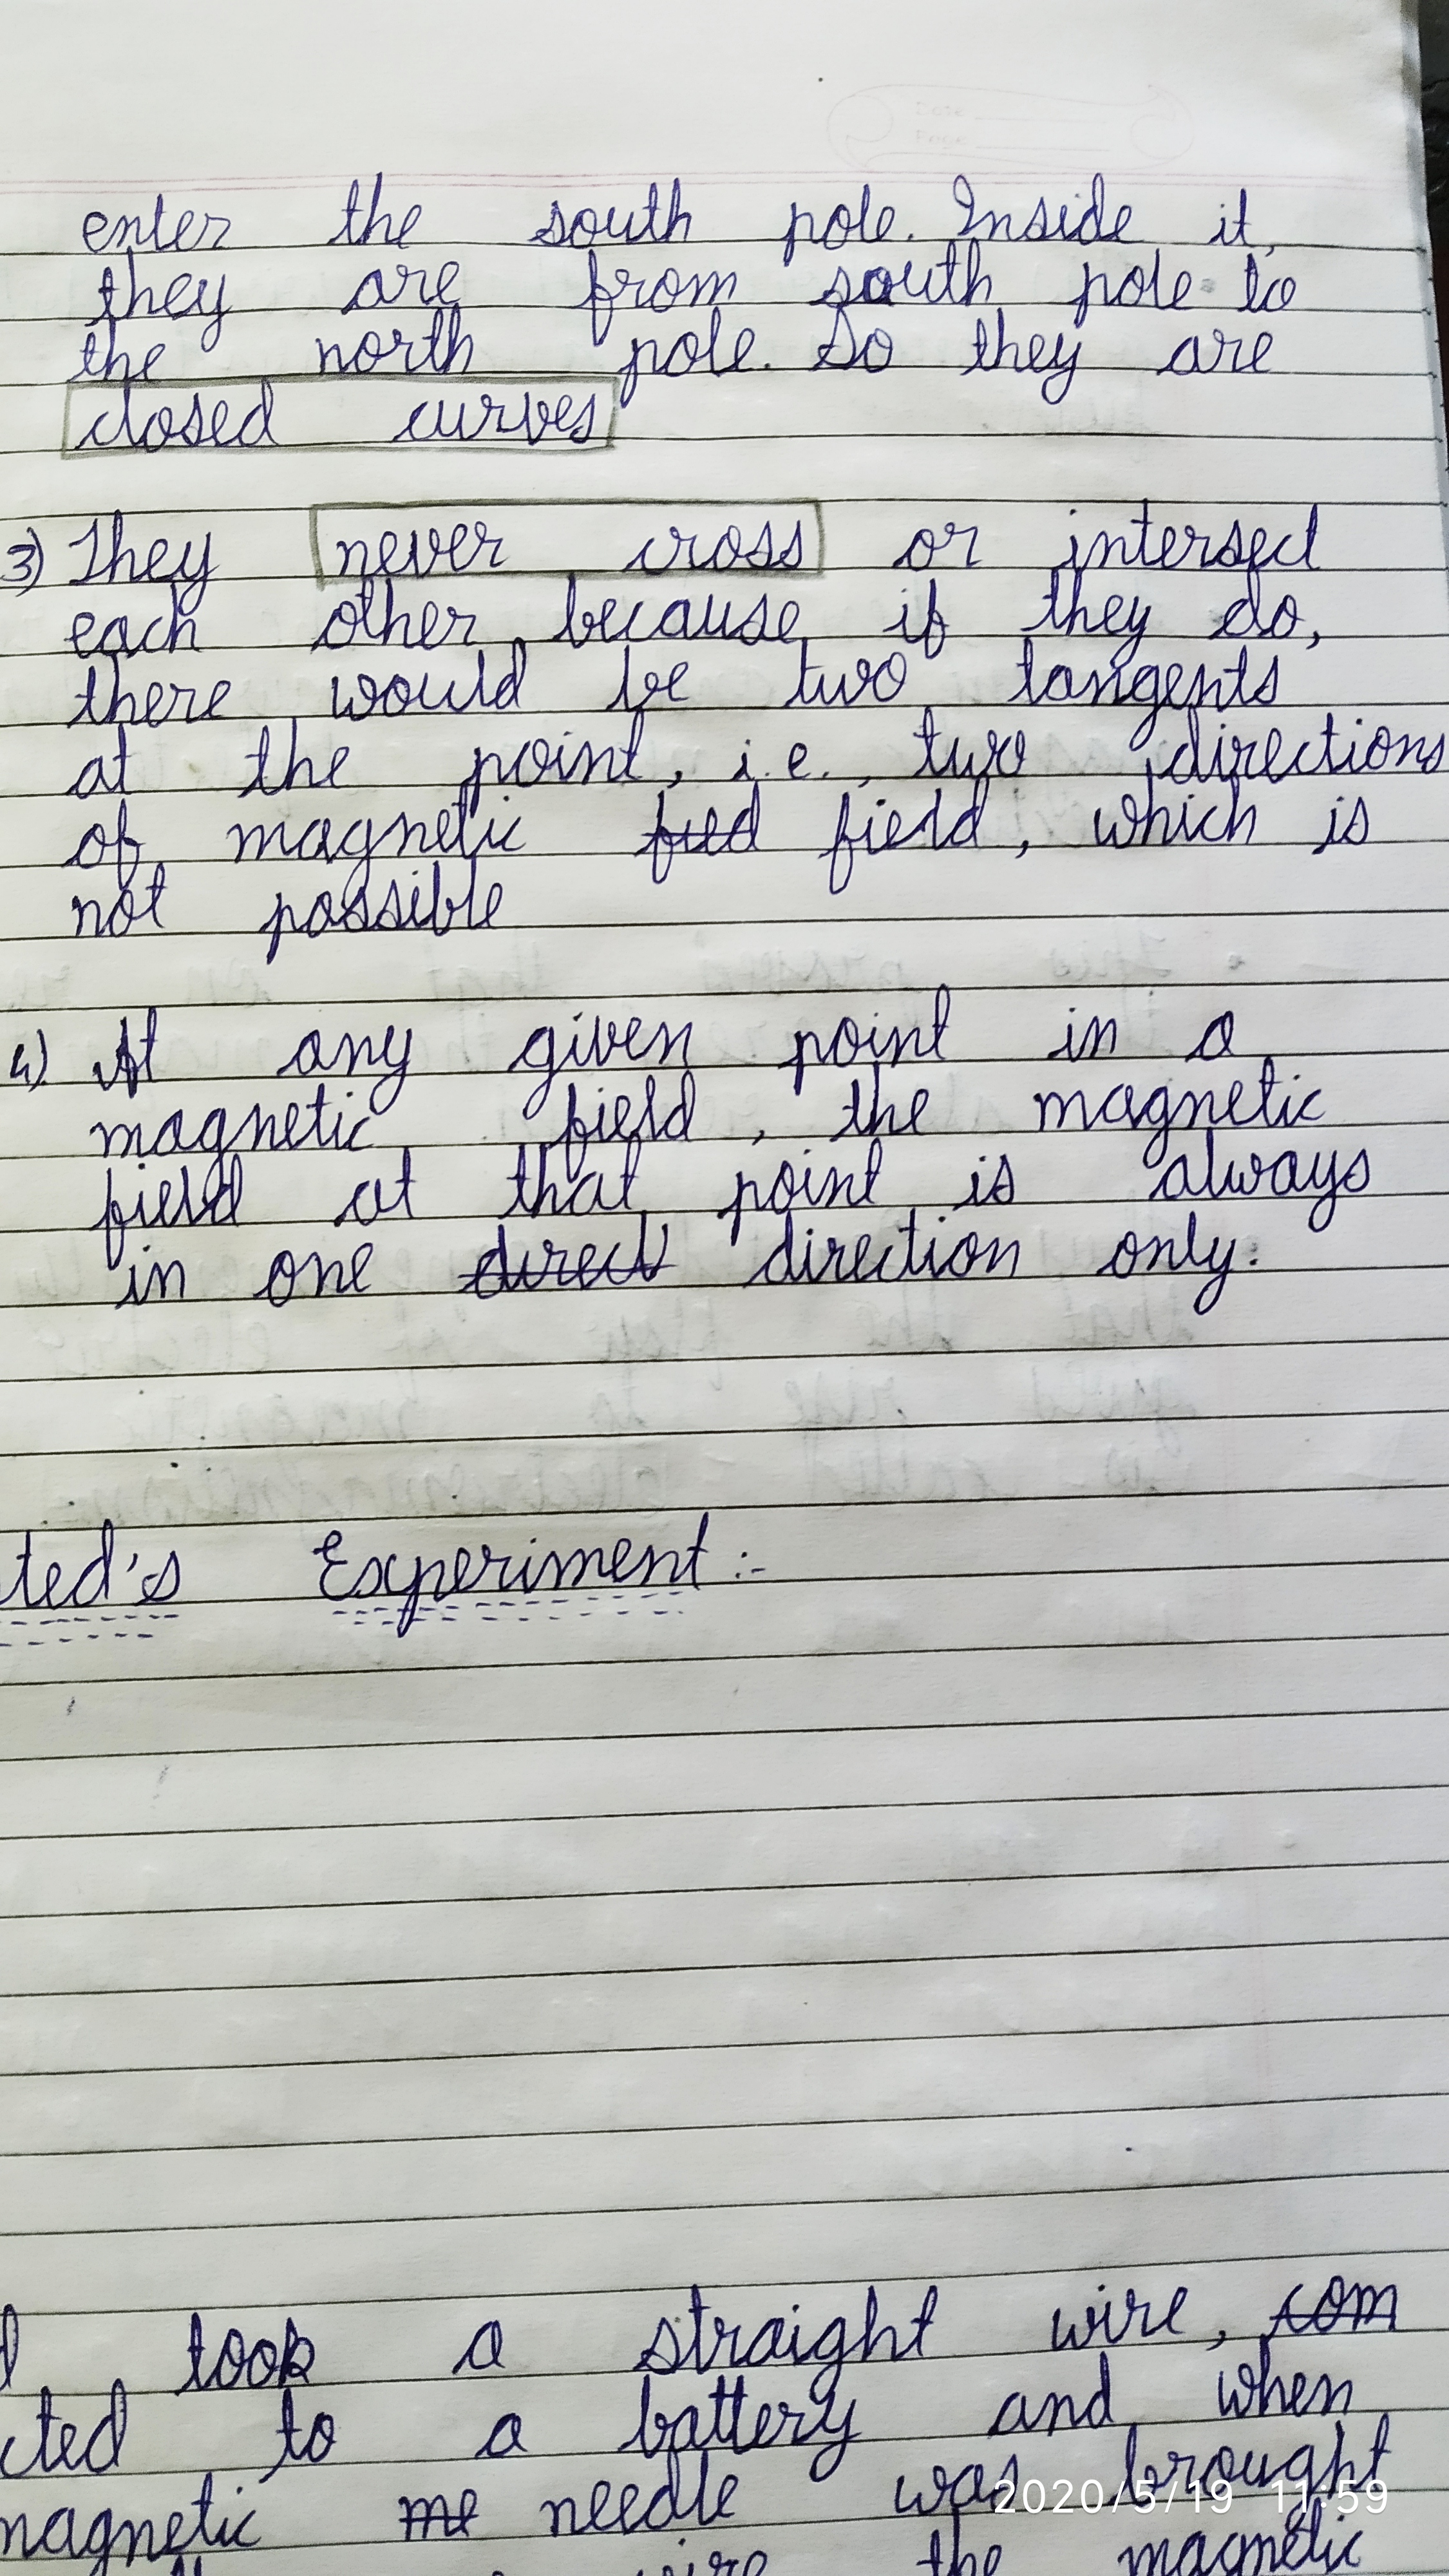A: (108, 1016, 140, 1095)
E: (315, 1529, 354, 1601)
I: (950, 173, 980, 237)
S: (817, 306, 860, 370)
T: (65, 518, 103, 586)
a: (464, 2319, 508, 2373), (35, 2503, 78, 2558), (741, 2316, 787, 2365), (1196, 1008, 1237, 1062), (483, 2410, 525, 2459), (292, 817, 334, 863), (147, 1108, 186, 1157), (948, 2461, 987, 2511), (566, 1171, 607, 1217), (349, 1177, 386, 1226), (651, 598, 694, 640), (1095, 1081, 1136, 1125), (292, 1024, 326, 1076), (1265, 1148, 1300, 1196), (667, 2404, 702, 2452), (350, 267, 389, 310), (1166, 334, 1205, 377), (1039, 662, 1077, 704), (96, 614, 133, 658), (993, 2388, 1030, 2433), (1157, 1154, 1192, 1200), (73, 755, 108, 800)
b: (635, 2374, 671, 2457), (563, 571, 596, 651), (428, 860, 458, 938)
c: (619, 600, 653, 642), (230, 2509, 265, 2548), (637, 536, 669, 573), (136, 614, 166, 653), (345, 1115, 375, 1154), (405, 400, 433, 441), (1286, 740, 1318, 775), (499, 814, 527, 853), (1196, 803, 1224, 842), (874, 1244, 901, 1283), (88, 410, 117, 446), (1270, 533, 1299, 568), (1297, 1088, 1325, 1122)
d: (80, 2378, 131, 2475), (69, 1522, 117, 1608), (639, 2450, 686, 2530), (1221, 566, 1265, 637), (948, 775, 989, 847), (1168, 706, 1205, 784), (658, 1070, 699, 1141), (490, 639, 529, 711), (234, 379, 274, 448), (1083, 2351, 1118, 2429), (763, 1212, 800, 1284), (1074, 172, 1108, 246), (211, 1154, 244, 1223)
e: (1157, 2284, 1196, 2335), (580, 2479, 617, 2532), (1258, 725, 1292, 784), (614, 2480, 648, 2535), (51, 2420, 87, 2472), (345, 1240, 379, 1293), (159, 272, 196, 320), (203, 398, 241, 446), (605, 1536, 642, 1583), (410, 600, 446, 649), (35, 1560, 71, 1610), (901, 1088, 938, 1134), (156, 2509, 193, 2555), (140, 534, 175, 582), (1159, 662, 1192, 711), (846, 1233, 879, 1283), (372, 529, 407, 575), (65, 610, 99, 658), (446, 1546, 479, 1594), (276, 1100, 308, 1150), (149, 1178, 180, 1228), (709, 2472, 741, 2521), (1246, 331, 1281, 375), (432, 260, 465, 306), (771, 600, 805, 646), (1219, 1079, 1253, 1125), (444, 520, 474, 571), (395, 203, 426, 251), (725, 327, 757, 375), (476, 881, 508, 929), (747, 2403, 778, 2450), (1150, 525, 1184, 570), (660, 660, 694, 704), (138, 681, 170, 727), (619, 1016, 651, 1062), (607, 1093, 639, 1139), (166, 209, 200, 251), (1166, 269, 1200, 311), (81, 211, 113, 255), (320, 747, 352, 791), (594, 598, 625, 644), (1108, 203, 1141, 244), (428, 809, 456, 855), (1286, 2371, 1315, 2417), (136, 341, 168, 382), (200, 679, 232, 720), (870, 203, 901, 246), (1244, 525, 1274, 568), (1021, 333, 1051, 373), (1097, 593, 1125, 633), (881, 810, 908, 853), (784, 741, 814, 778), (550, 393, 577, 433)
f: (584, 248, 616, 349), (561, 1081, 591, 1185), (830, 791, 856, 895), (113, 798, 142, 893), (103, 1166, 126, 1274), (920, 577, 948, 660)
g: (518, 1024, 559, 1122), (807, 2316, 847, 2406), (338, 817, 373, 911), (195, 1106, 226, 1207), (1139, 1085, 1175, 1171), (1127, 663, 1161, 752)
h: (860, 2284, 901, 2362), (1139, 757, 1173, 847), (1254, 2332, 1290, 2415), (379, 577, 414, 651), (280, 717, 315, 789), (166, 582, 202, 653), (1224, 773, 1260, 844), (865, 1060, 897, 1136), (124, 246, 157, 317), (103, 658, 138, 725), (106, 508, 138, 582), (363, 170, 395, 242), (961, 237, 993, 306), (531, 1143, 561, 1215), (662, 177, 694, 242), (446, 306, 476, 373), (103, 317, 133, 380), (993, 306, 1021, 372), (1065, 573, 1092, 633)
i: (918, 1212, 950, 1279), (120, 1244, 152, 1304), (126, 1161, 154, 1228), (513, 1536, 545, 1594), (559, 1010, 589, 1069), (327, 1090, 356, 1152), (1338, 717, 1368, 773), (858, 798, 888, 855), (796, 1146, 824, 1207), (1060, 508, 1086, 571), (1056, 1007, 1085, 1063), (961, 1154, 991, 1207), (786, 2304, 812, 2364), (1095, 2284, 1122, 2344), (587, 1085, 614, 1143), (548, 729, 577, 782), (1276, 1072, 1304, 1125), (798, 1226, 824, 1283), (1205, 722, 1230, 782), (403, 869, 428, 929), (1173, 793, 1198, 844), (1320, 794, 1345, 846), (862, 1010, 886, 1060), (1054, 191, 1079, 239), (893, 587, 915, 642), (732, 738, 757, 782), (1210, 202, 1233, 246)
l: (685, 2449, 715, 2526), (701, 306, 729, 377), (170, 1164, 200, 1224), (458, 858, 483, 931), (635, 1074, 662, 1141), (1198, 1127, 1223, 1198), (464, 648, 492, 708), (117, 380, 140, 448), (1146, 246, 1169, 311), (853, 182, 876, 244), (1178, 1210, 1201, 1267)
m: (1030, 1088, 1090, 1131), (230, 819, 288, 862), (552, 1545, 607, 1589), (96, 1120, 145, 1161), (686, 269, 740, 306)
n: (656, 1019, 692, 1069), (639, 1543, 679, 1585), (1037, 2390, 1079, 2431), (393, 809, 428, 856), (122, 2518, 156, 2567), (577, 740, 614, 784), (1316, 2373, 1353, 2417), (1085, 667, 1122, 709), (821, 1164, 856, 1208), (886, 1024, 922, 1067), (545, 2495, 580, 2537), (248, 1100, 278, 1150), (311, 1251, 345, 1295), (71, 893, 103, 939), (334, 538, 370, 579), (343, 1028, 373, 1076), (154, 1258, 188, 1300), (1086, 1014, 1118, 1058), (1182, 1090, 1217, 1127), (985, 1237, 1019, 1276), (1097, 527, 1127, 570), (313, 336, 347, 373), (1394, 732, 1428, 770), (1145, 1235, 1177, 1272), (113, 212, 143, 249), (985, 209, 1012, 241)
o: (209, 2327, 246, 2388), (301, 2410, 341, 2465), (660, 331, 702, 380), (510, 738, 552, 787), (320, 600, 361, 651), (764, 1159, 800, 1215), (817, 202, 856, 253), (870, 651, 909, 702), (265, 1249, 299, 1307), (826, 1014, 862, 1069), (646, 265, 685, 315), (706, 524, 745, 571), (943, 1230, 982, 1277), (138, 405, 175, 455), (73, 821, 108, 870), (303, 890, 338, 939), (856, 264, 897, 306), (1108, 1230, 1141, 1281), (246, 2337, 280, 2388), (902, 525, 939, 571), (860, 327, 895, 375), (379, 672, 416, 717), (1113, 264, 1148, 310), (1267, 593, 1300, 639), (996, 729, 1028, 777), (566, 207, 602, 249), (350, 329, 384, 373), (106, 890, 138, 936), (1362, 725, 1394, 770)
p: (398, 1555, 446, 1640), (619, 336, 658, 410), (1072, 260, 1111, 331), (469, 747, 502, 817), (267, 892, 299, 966), (731, 1169, 761, 1247), (791, 1028, 824, 1097), (782, 200, 816, 267)
qqapostrophe: (122, 1552, 145, 1608)
qqbclose: (30, 1028, 50, 1093), (30, 527, 50, 587)
qqbslash: (1162, 2479, 1180, 2516), (1109, 2479, 1127, 2514)
qqcolon: (731, 1550, 748, 1583), (1316, 2479, 1330, 2514)
qqcoma: (1205, 2328, 1230, 2353), (1304, 628, 1323, 651), (665, 770, 685, 791), (1014, 839, 1031, 860), (750, 1127, 768, 1146), (856, 775, 872, 791), (1261, 244, 1277, 258)
qqfive: (1132, 2479, 1157, 2514), (1336, 2479, 1361, 2514)
qqfour: (9, 1042, 32, 1085)
qqfstop: (1246, 1254, 1261, 1274), (761, 361, 773, 373), (904, 232, 916, 242), (821, 770, 832, 780), (763, 770, 771, 782)
qqhyphen: (748, 1566, 770, 1575)
qqnine: (1208, 2477, 1233, 2516), (1364, 2479, 1389, 2516)
qqone: (1187, 2479, 1203, 2514), (1270, 2479, 1286, 2514), (1293, 2479, 1309, 2514)
qqthree: (5, 541, 35, 584)
qqtwo: (993, 2479, 1017, 2514), (1051, 2479, 1076, 2514)
qqzero: (1021, 2479, 1047, 2514), (1079, 2479, 1106, 2514)
r: (474, 1541, 515, 1592), (1205, 327, 1246, 375), (939, 520, 980, 568), (1118, 2288, 1155, 2339), (708, 2316, 743, 2367), (391, 262, 432, 306), (471, 518, 506, 568), (474, 391, 511, 437), (1177, 524, 1214, 570), (165, 681, 202, 727), (1226, 734, 1261, 780), (819, 1235, 851, 1283), (441, 605, 478, 646), (665, 525, 701, 568), (773, 2401, 807, 2445), (386, 327, 418, 372), (198, 211, 232, 251), (612, 267, 646, 308)
s: (637, 2316, 683, 2378), (142, 1550, 182, 1601), (175, 393, 211, 446), (1212, 517, 1247, 568), (743, 518, 777, 571), (533, 200, 570, 248), (373, 878, 405, 931), (1341, 796, 1373, 846), (819, 264, 855, 308), (1339, 1148, 1373, 1194), (777, 520, 809, 568), (341, 886, 373, 932), (989, 1154, 1017, 1205), (1021, 195, 1051, 241)
t: (681, 2284, 711, 2378), (25, 2387, 57, 2475), (904, 2284, 941, 2357), (180, 2311, 214, 2390), (679, 1511, 711, 1587), (911, 706, 945, 777), (1247, 1056, 1279, 1129), (274, 2388, 306, 2461), (616, 1136, 646, 1212), (9, 1530, 39, 1606), (301, 1081, 333, 1152), (617, 708, 648, 782), (188, 2472, 216, 2549), (925, 984, 954, 1060), (895, 1207, 925, 1276), (246, 724, 274, 796), (393, 1146, 421, 1217), (1129, 497, 1157, 566), (856, 1136, 885, 1205), (702, 2374, 729, 2447), (449, 784, 474, 860), (138, 1007, 163, 1083), (727, 2373, 750, 2454), (73, 663, 103, 725), (336, 179, 364, 244), (504, 1145, 531, 1214), (110, 724, 134, 796), (142, 862, 168, 929), (1315, 711, 1343, 773), (1226, 644, 1254, 704), (419, 308, 446, 370), (1039, 568, 1065, 630), (936, 241, 961, 304), (1230, 186, 1254, 246), (840, 1077, 865, 1136), (356, 577, 379, 639), (639, 180, 662, 241), (96, 265, 120, 320), (970, 317, 993, 372), (76, 331, 101, 379)
u: (697, 593, 734, 640), (416, 671, 456, 711), (430, 396, 465, 442), (901, 258, 934, 303), (602, 205, 637, 244)
v: (403, 525, 444, 579), (518, 389, 552, 448)
w: (892, 2463, 950, 2518), (1092, 793, 1141, 849), (329, 672, 380, 722), (947, 729, 998, 777), (1215, 2360, 1256, 2417), (1049, 2305, 1099, 2351), (1223, 1152, 1267, 1198)
x: (356, 1553, 398, 1599)
y: (368, 1023, 416, 1118), (809, 2392, 858, 2482), (1192, 1235, 1237, 1316), (177, 531, 214, 617), (1306, 1146, 1341, 1233), (1111, 594, 1152, 669), (1042, 333, 1083, 405), (195, 272, 228, 354)
